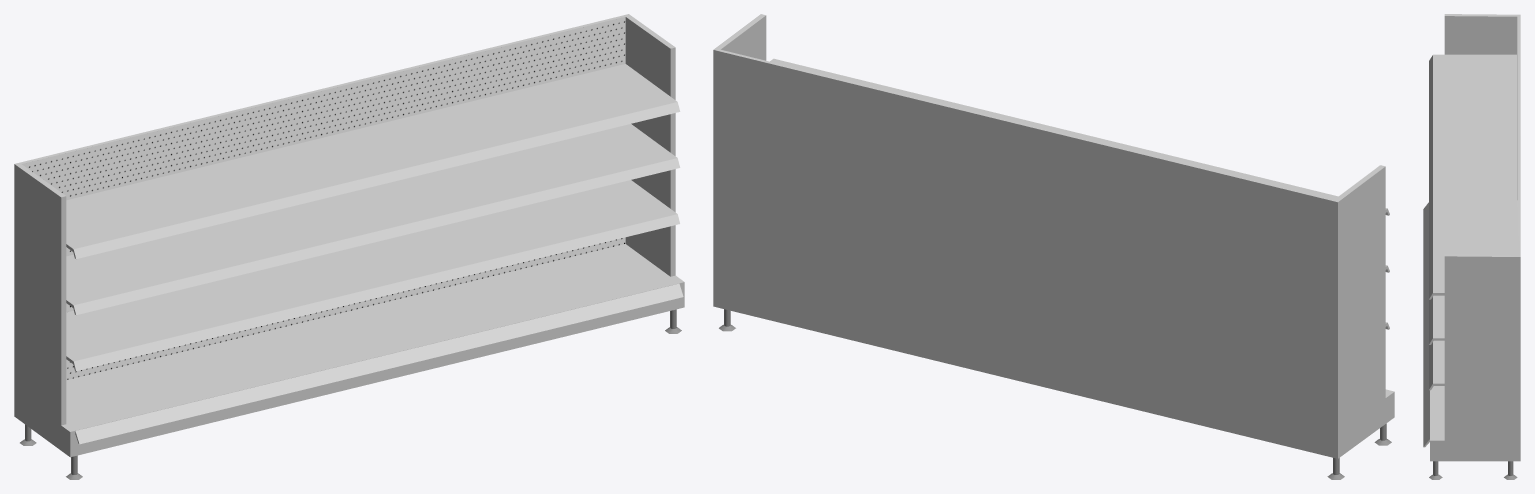
Rendered from ray_store_standard_001.FBX.
The picture shows the model from 3 angles, left to right: view 1: azimuth 30°, elevation 25°; view 2: azimuth 150°, elevation 25°; view 3: azimuth 270°, elevation 25°; orthographic projection. The views are drawn at different scales.
Parts seen in each view (by area): view 1: ray_store_standard_001; view 2: ray_store_standard_001; view 3: ray_store_standard_001.
Boxes of the visible parts, x1=… form: ray_store_standard_001: x1=14, y1=14, x2=684, y2=479; ray_store_standard_001: x1=713, y1=14, x2=1394, y2=479; ray_store_standard_001: x1=1423, y1=14, x2=1520, y2=479.
Bounding box in the file's own units: 4.69 × 2.02 × 0.7939.
